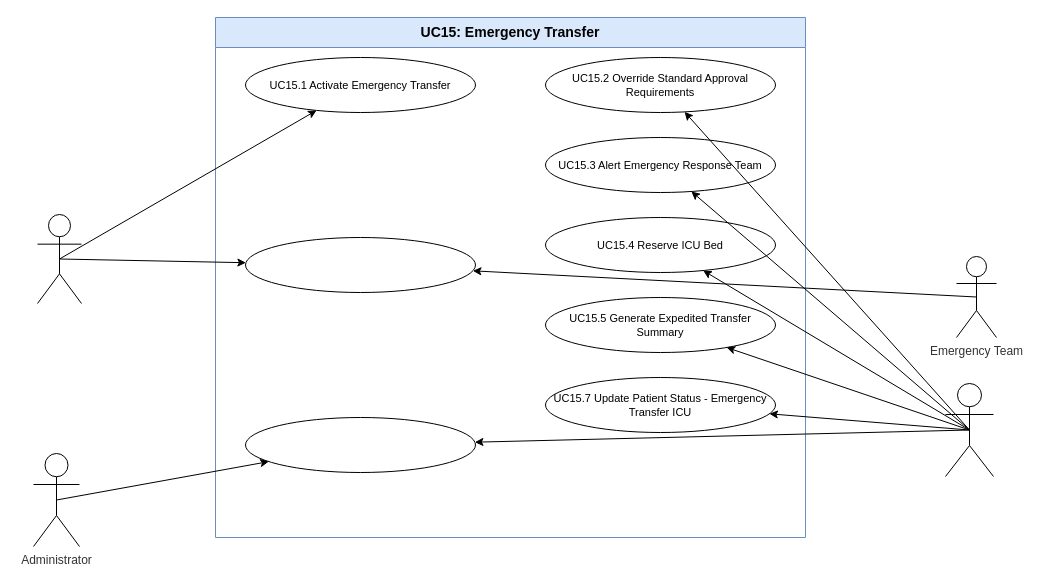
The diagram is 1040 pixels wide and 585 high, and some of its shapes have lost their labels. The centre of each missing label's shape, as x and y in pixels:
Pediatric Doctor: the point at 59,259
System: the point at 969,429
UC15.6 Transfer Patient with Staff Escort: the point at 360,264
UC15.8 Alert Admin and Doctor - ICU at Full Capacity: the point at 360,444
